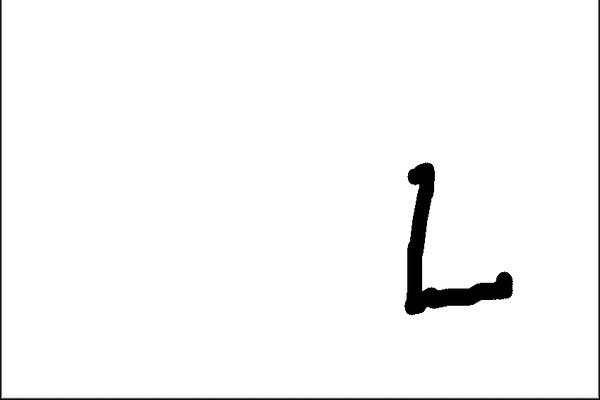L: (393, 154, 524, 322)
